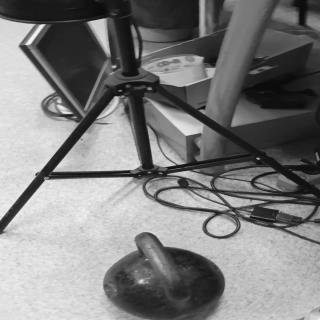kettlebell: (104, 233, 226, 320)
